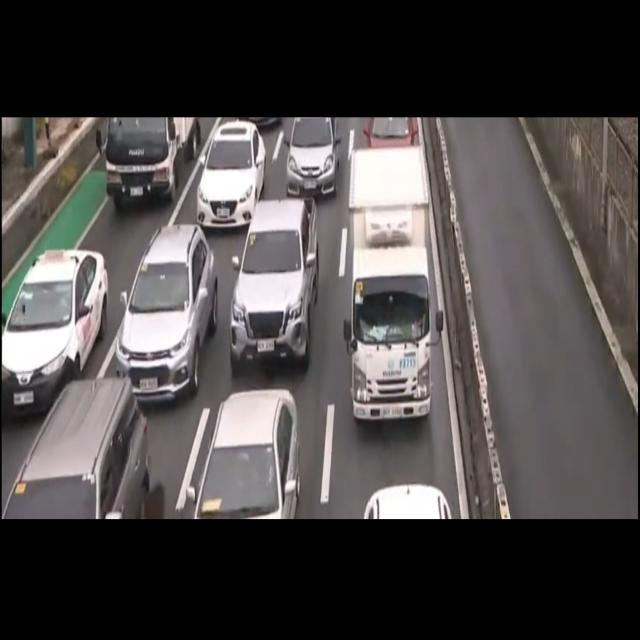SUV: (8, 386, 151, 522), (232, 206, 312, 361)
Sedan: (0, 250, 102, 413), (118, 224, 206, 400), (194, 386, 303, 516), (195, 120, 259, 234), (282, 120, 336, 203)
Truck: (344, 154, 434, 424), (102, 108, 192, 208)
